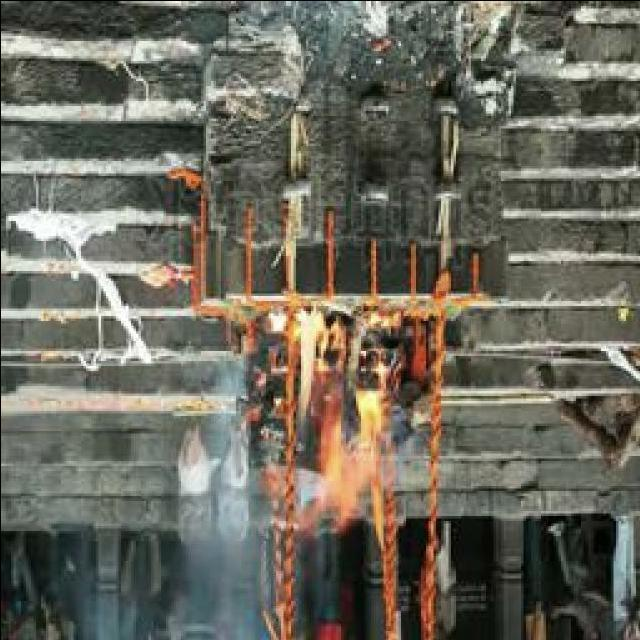Fire: (268, 310, 392, 528)
